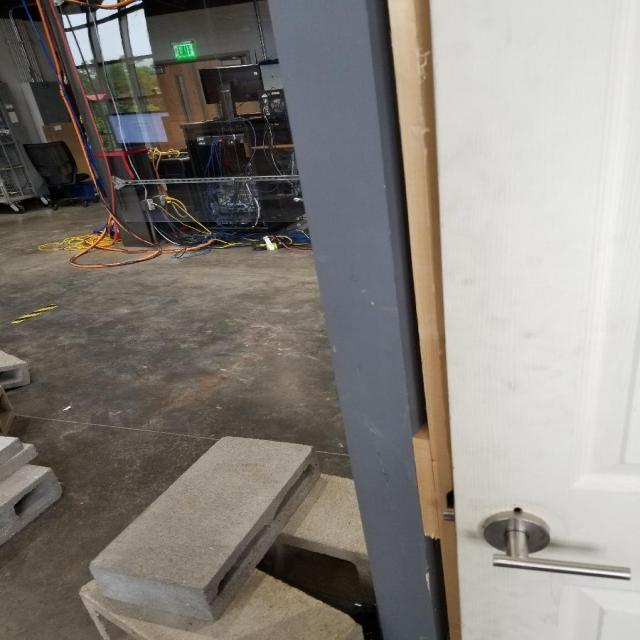door: (475, 503, 636, 592)
